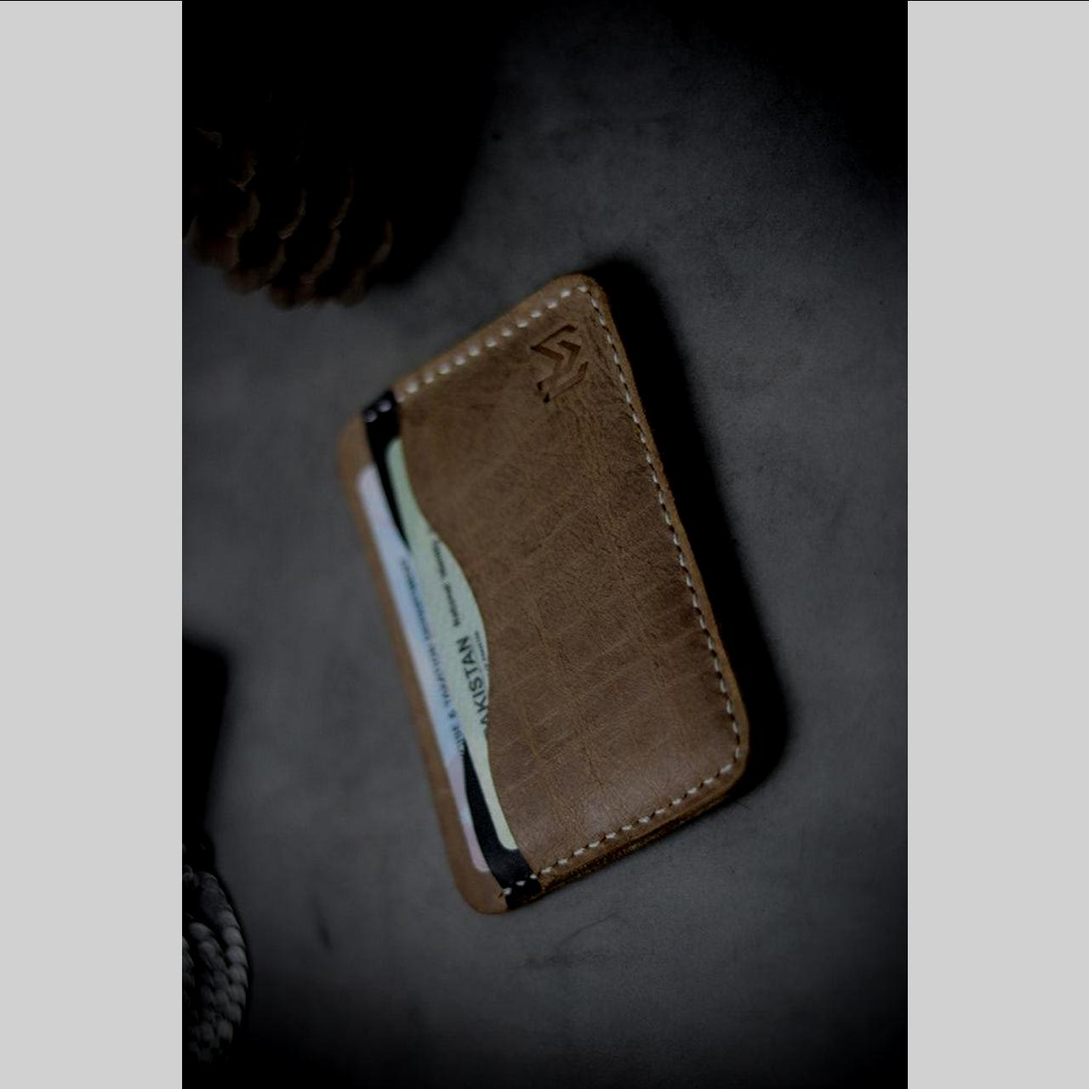wallet: (314, 225, 776, 969)
